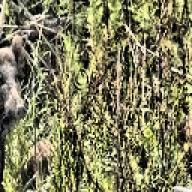boar: (0, 33, 32, 192)
